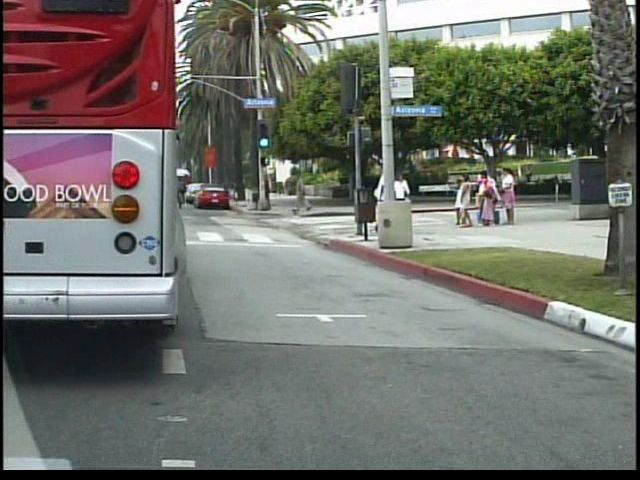person: (375, 162, 400, 239), (395, 168, 418, 229), (294, 170, 316, 218)
